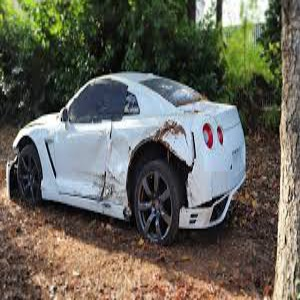door: (55, 135, 127, 208)
